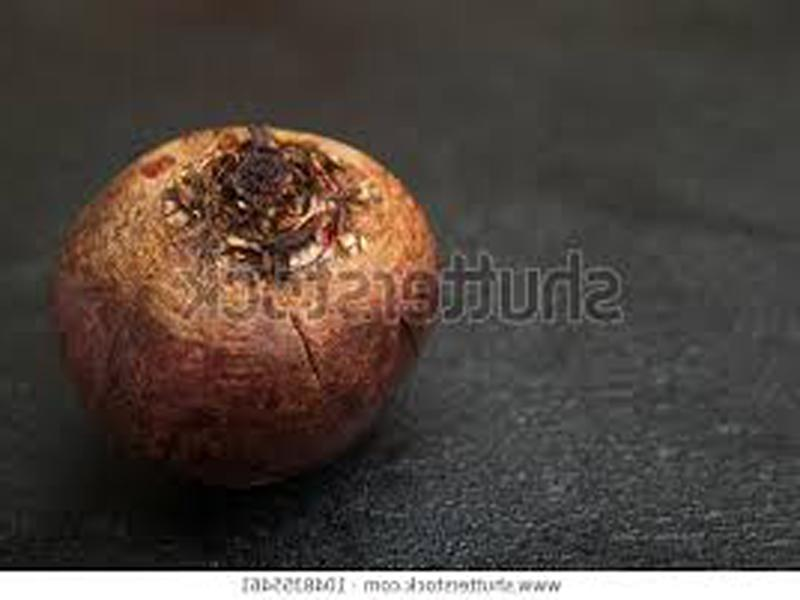Beet: (44, 128, 435, 482)
